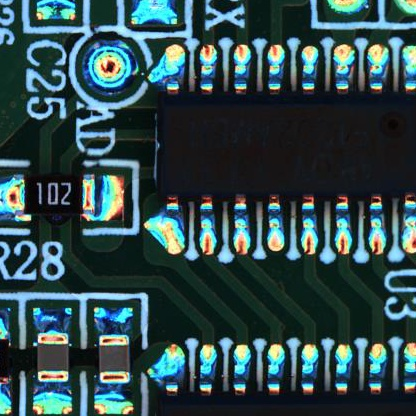spot: (78, 35, 142, 102)
